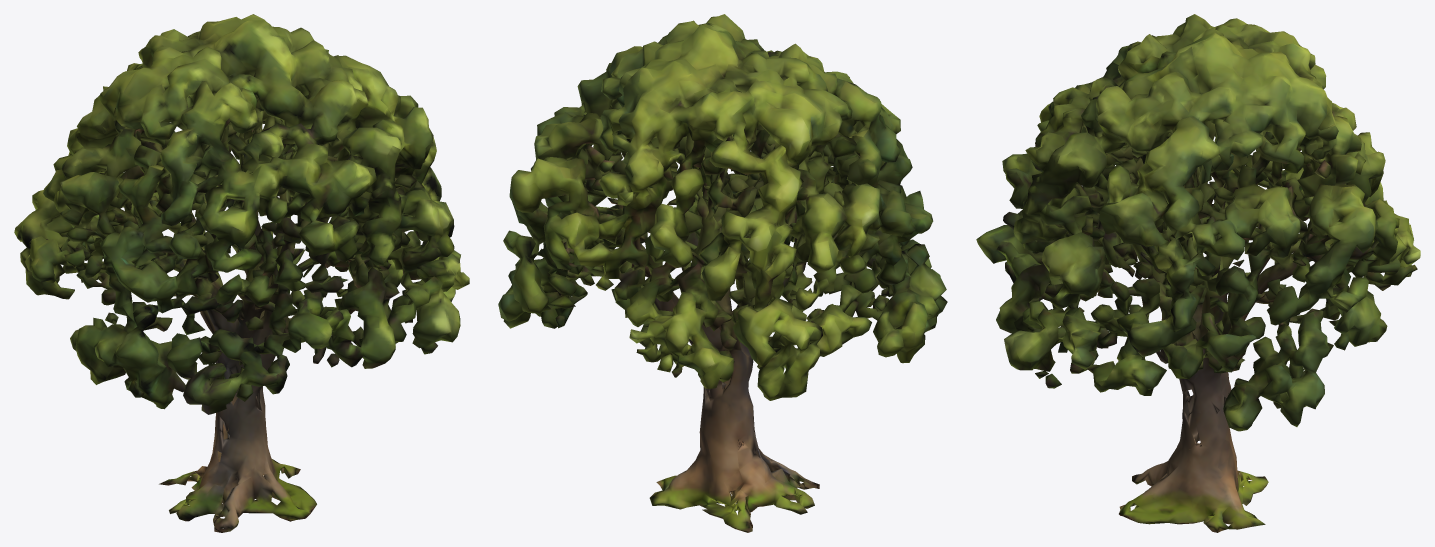
The model's file is AI_DenseOakTree.fbx.
3 views of the same model, side by side, from view 1: azimuth 30°, elevation 25°; view 2: azimuth 150°, elevation 25°; view 3: azimuth 270°, elevation 25° (orthographic). The views are drawn at different scales.
Parts seen in each view (by area): view 1: Mesh_0; view 2: Mesh_0; view 3: Mesh_0.
Part boxes in pixels (x1=…): Mesh_0: x1=14, y1=14, x2=469, y2=532; Mesh_0: x1=498, y1=14, x2=947, y2=532; Mesh_0: x1=976, y1=14, x2=1420, y2=532.
Bounding box in the file's own units: 165 × 199 × 167.
Materials: 1 (1 with a texture image).
